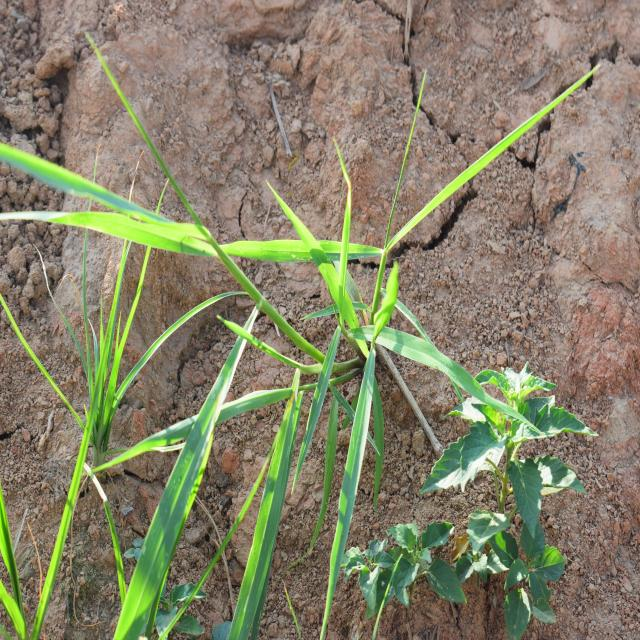green_foxtail: (165, 208, 391, 548)
